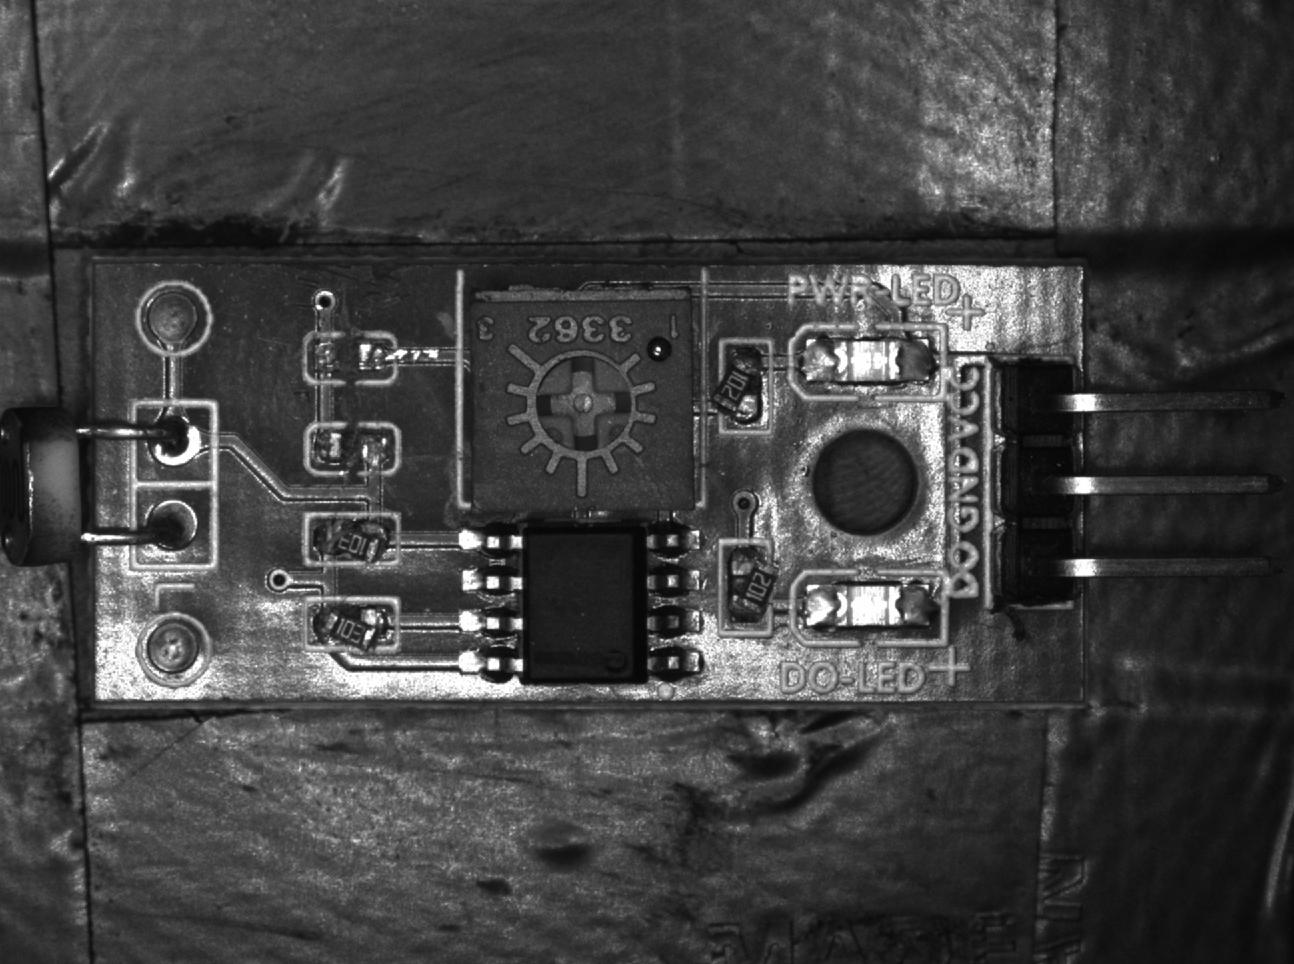lifted: (719, 539, 778, 638), (711, 340, 769, 434), (301, 514, 402, 567), (301, 599, 398, 651)
miss: (303, 422, 400, 480), (302, 336, 397, 383)
